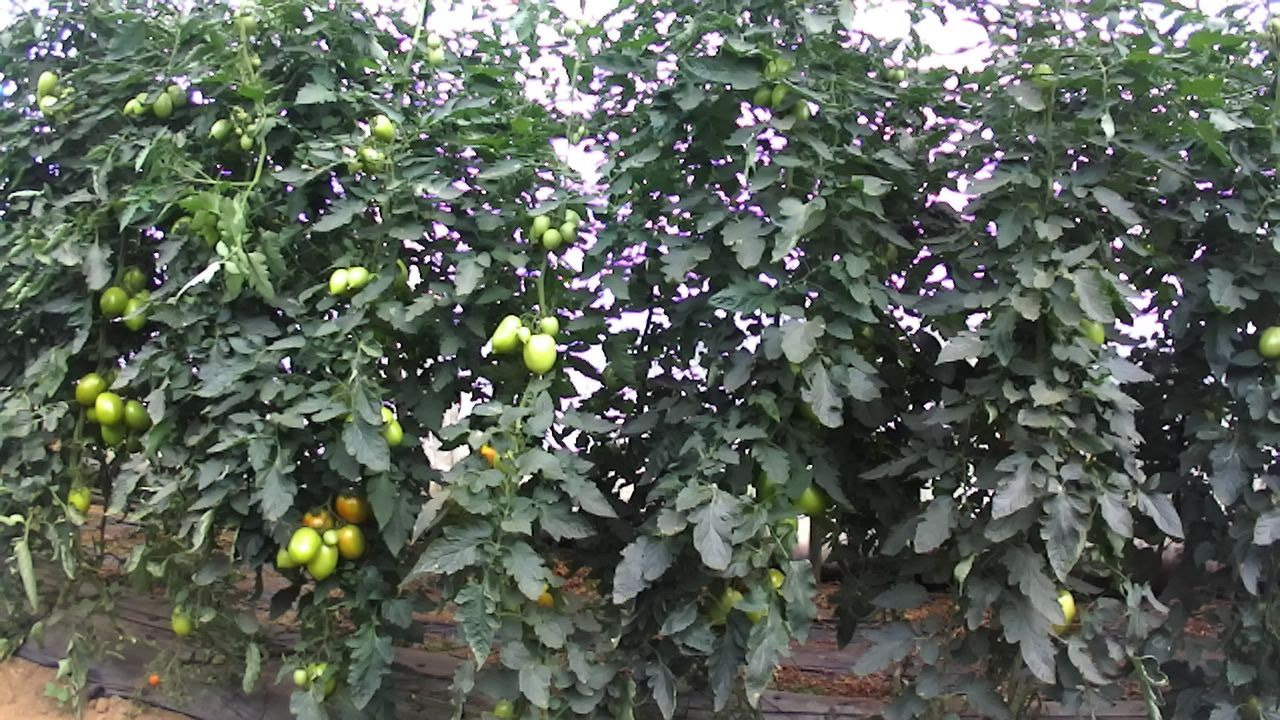tomato: (304, 538, 343, 584), (520, 331, 559, 376), (332, 487, 372, 528), (488, 312, 524, 356), (286, 524, 323, 566), (73, 369, 109, 408), (92, 389, 127, 429), (792, 483, 827, 520), (336, 521, 367, 562), (97, 283, 129, 321), (119, 295, 151, 332), (120, 395, 152, 431), (366, 112, 397, 144), (1254, 323, 1280, 361), (66, 484, 92, 516), (149, 91, 175, 121), (326, 266, 350, 298), (750, 80, 776, 109), (35, 68, 58, 100), (343, 265, 369, 291), (170, 610, 192, 639), (530, 212, 552, 240), (540, 226, 564, 251), (537, 315, 561, 339), (558, 220, 579, 246), (320, 526, 342, 549), (516, 324, 533, 346), (238, 131, 255, 152), (291, 666, 307, 687)
